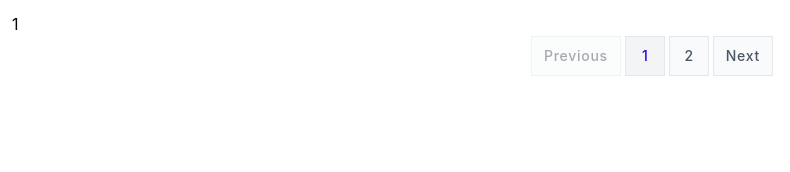
Test case: CampaignAssignmentPagination › keeps page changes within the available one-based range
The width and height of the screenshot is (790, 172).
Click the button "Next" at point(743, 56), box [713,36,773,76]
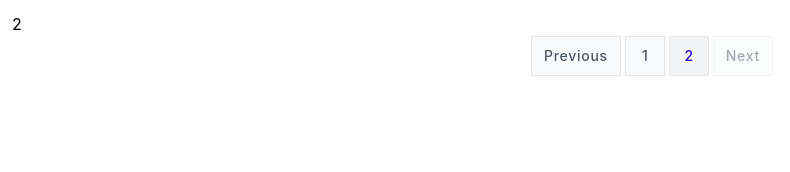
Expected: the text named "Current page" reads "2", [12,14,22,34]
Expected: the button "Next" is disabled, [713,36,773,76]
Click the button "Previous" at point(576, 56), box [531,36,621,76]
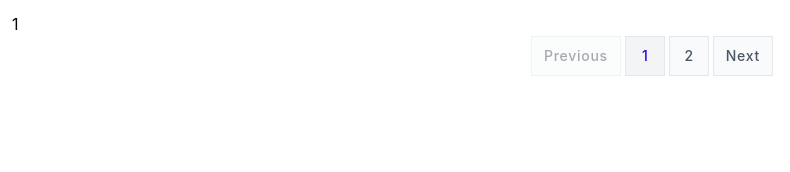
Expected: the text named "Current page" reads "1", [12,14,18,34]
Expected: the button "Previous" is disabled, [531,36,621,76]
